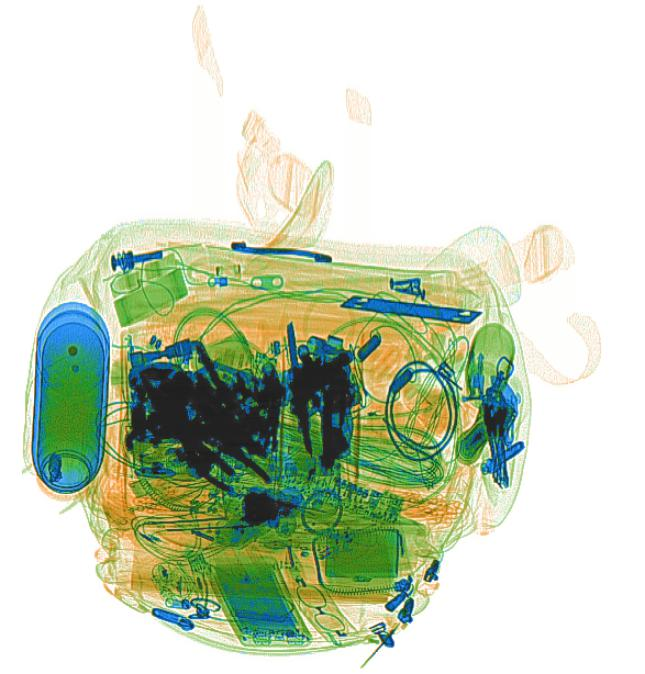battery: (458, 420, 493, 460)
